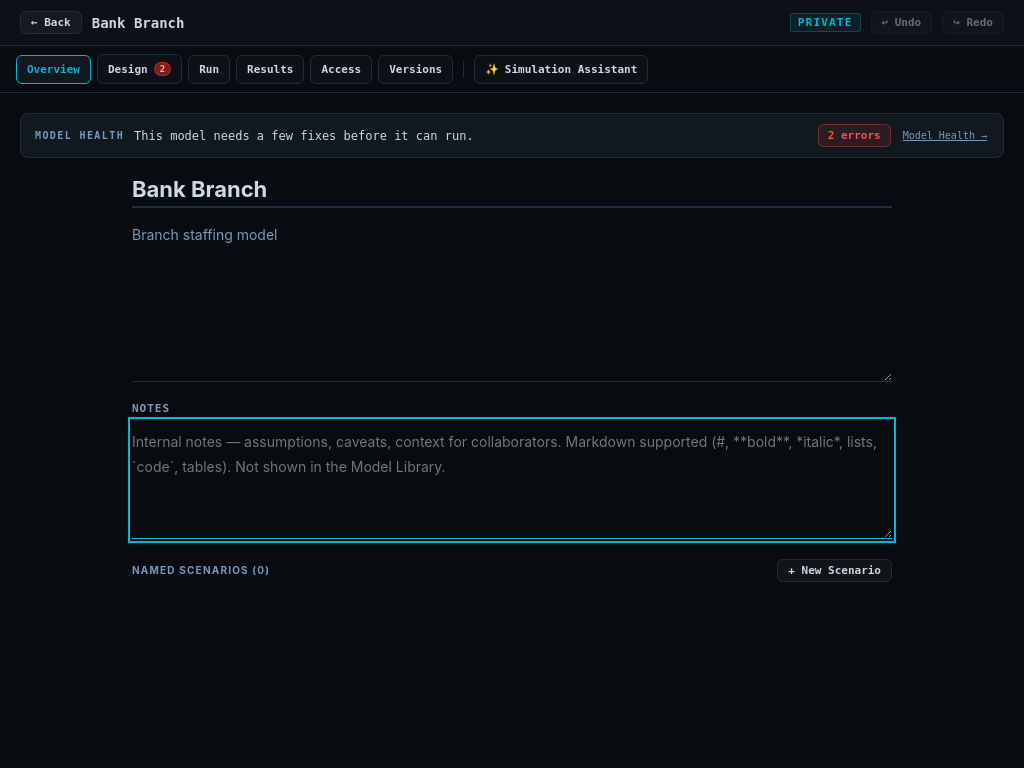
Test: Business view curation (exposedParams) › flags a stored entry whose target no longer exists and removes it on click
This screenshot has width=1024, height=768.
What coordinates should you click on to do the following:
click the button "Access"
I would click on:
 (341, 69)
Its box is [310,54,372,84].
(page scrolled)
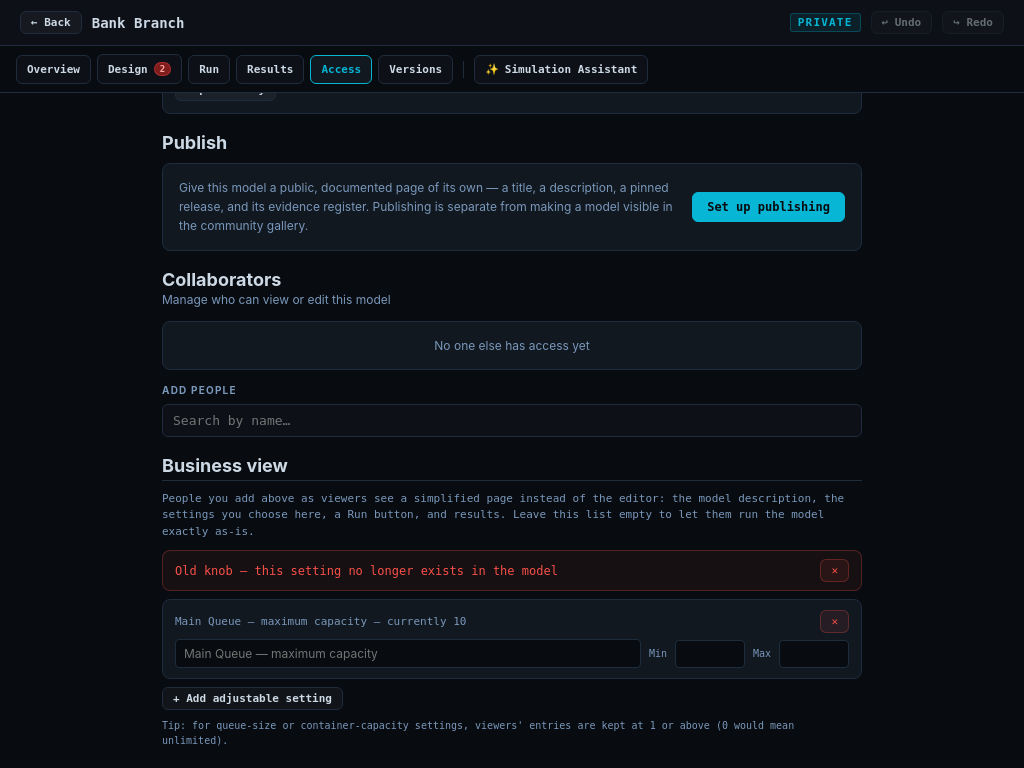
expect the text "Business view" is shown: met, box [162,455,862,481]
expect the text "Old knob — this setting no longer exists in the model" is shown: met, box [175,564,558,578]
expect the text "Main Queue — maximum capacity — currently 10" is shown: met, box [175,615,466,628]
What coordinates should you click on to do the following:
click the button named "remove missing setting old knob"
I would click on:
 (835, 571)
Its box is [820,559,849,582].
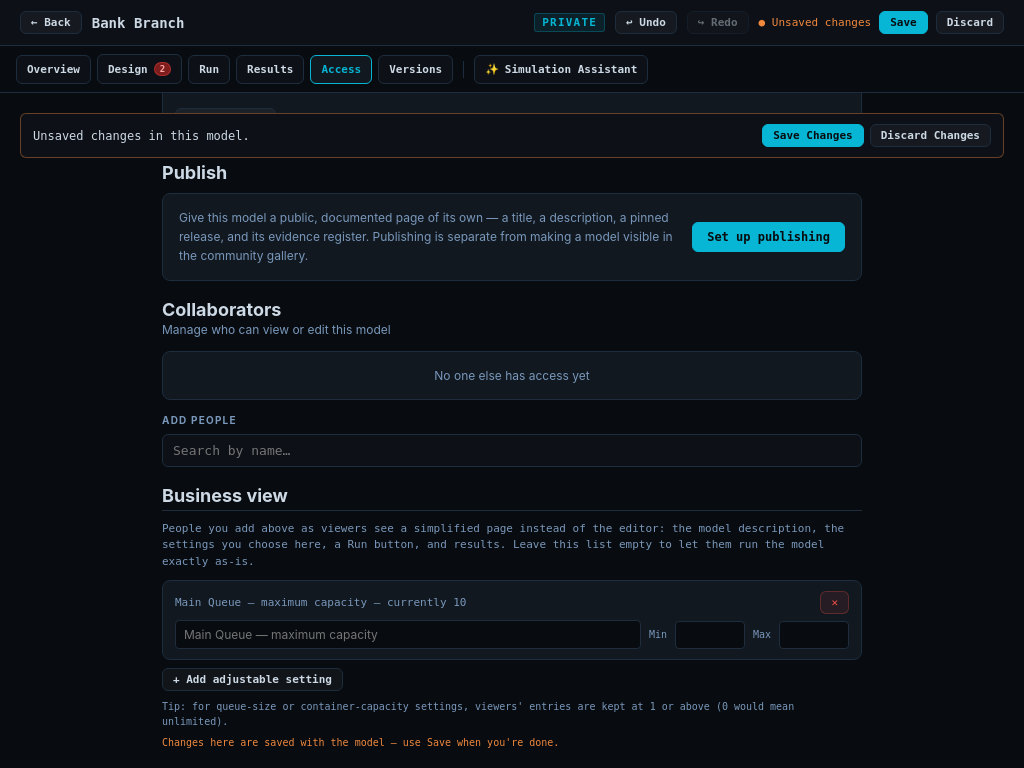
expect the text "Old knob" is gone: met
